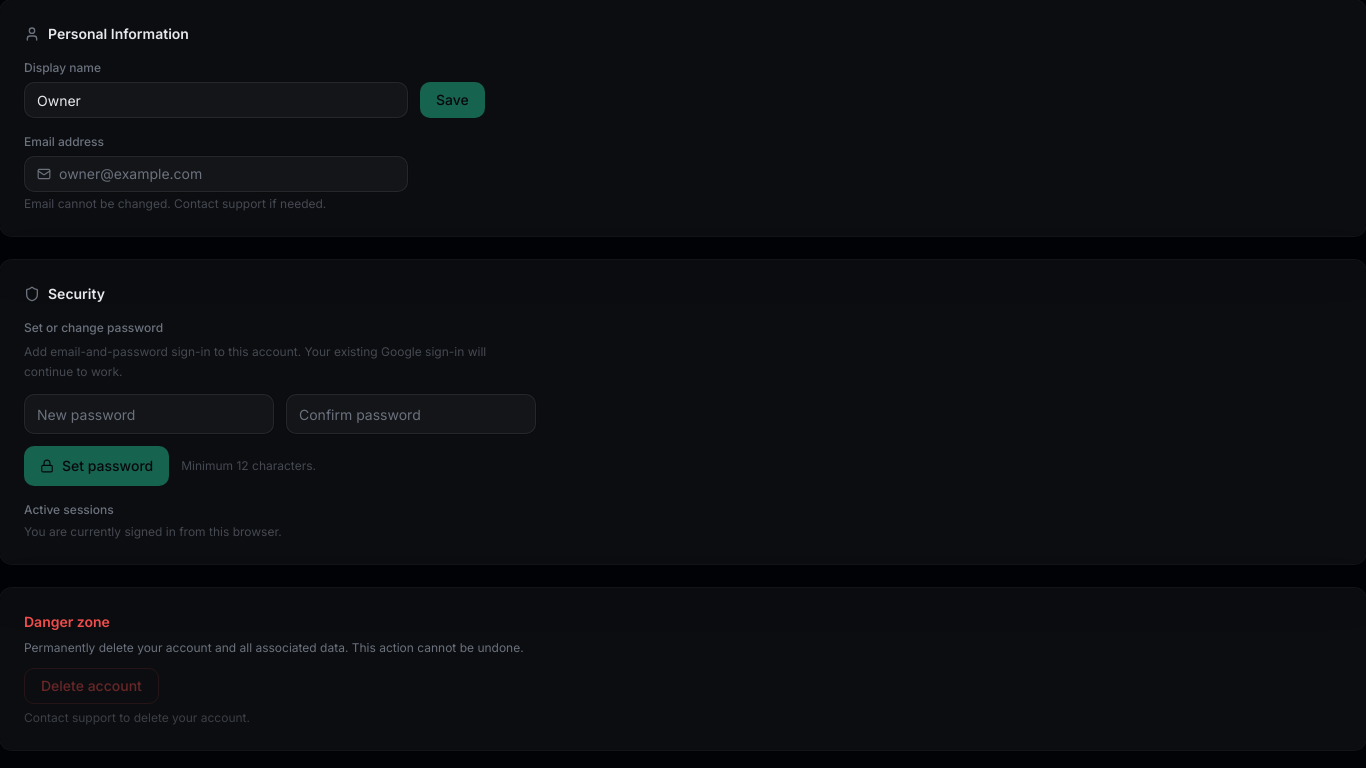
ProfileTab password sign-in › sets a password on the authenticated Supabase user
Type "strong-password-2026" into the password field labelled "New password". click: (149, 414)
box: [24, 394, 274, 434]
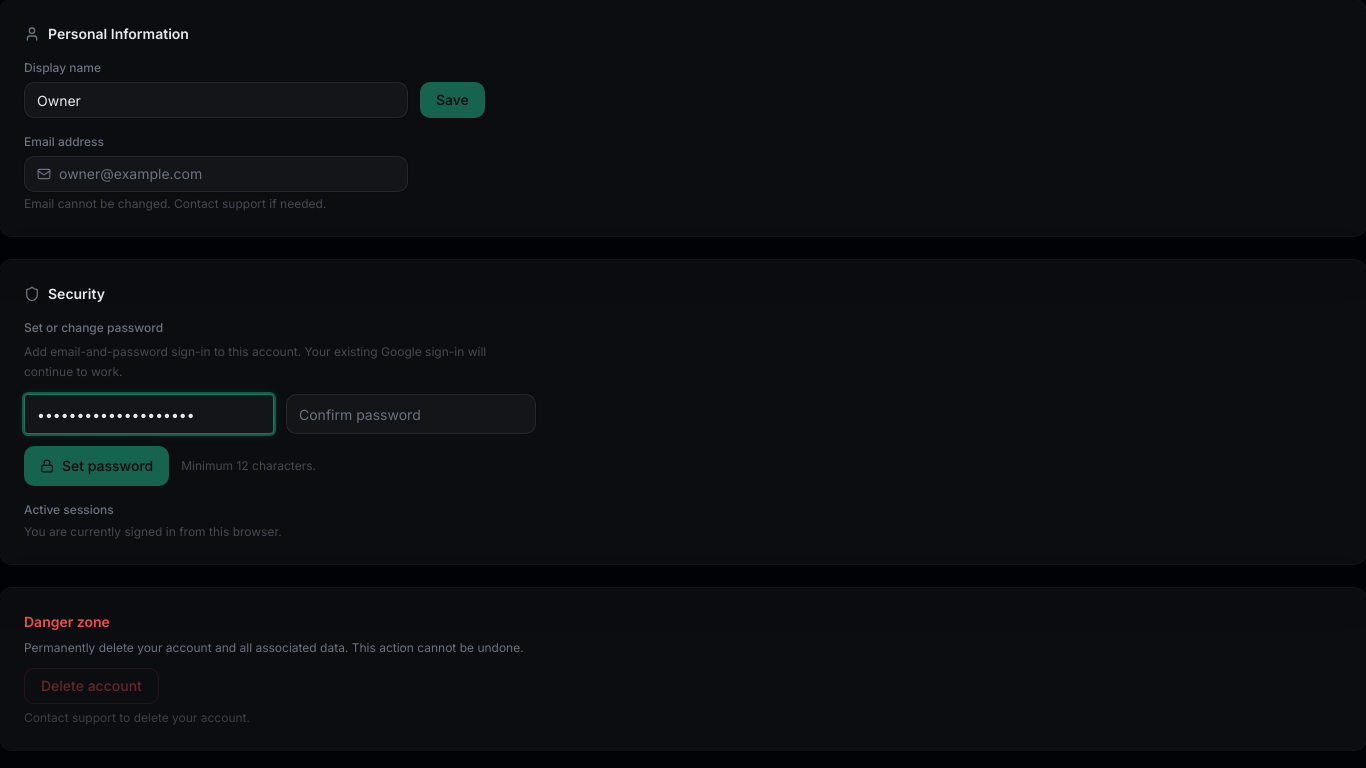
Type "strong-password-2026" into the password field labelled "Confirm password". click: (411, 414)
box: [286, 394, 536, 434]
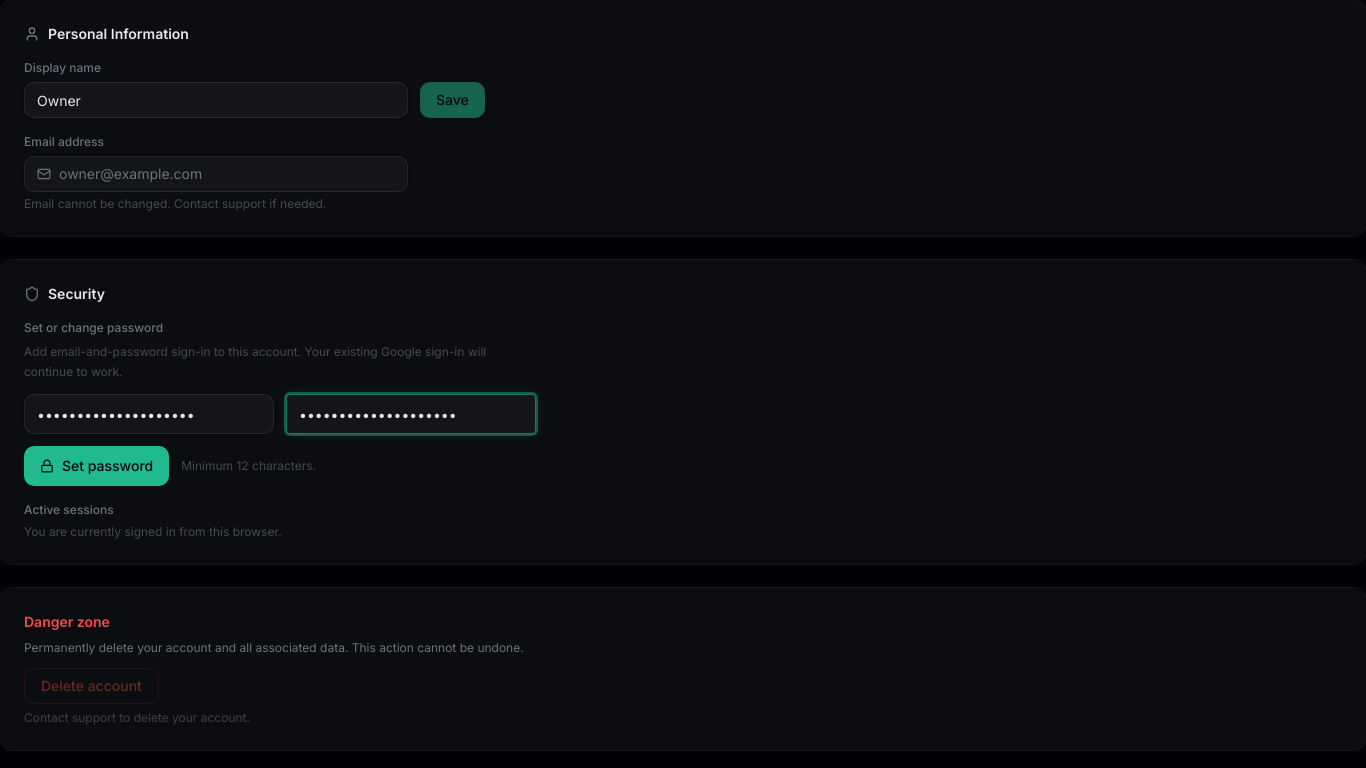
Click the button "Set password". click: (97, 466)
box: [24, 446, 169, 486]
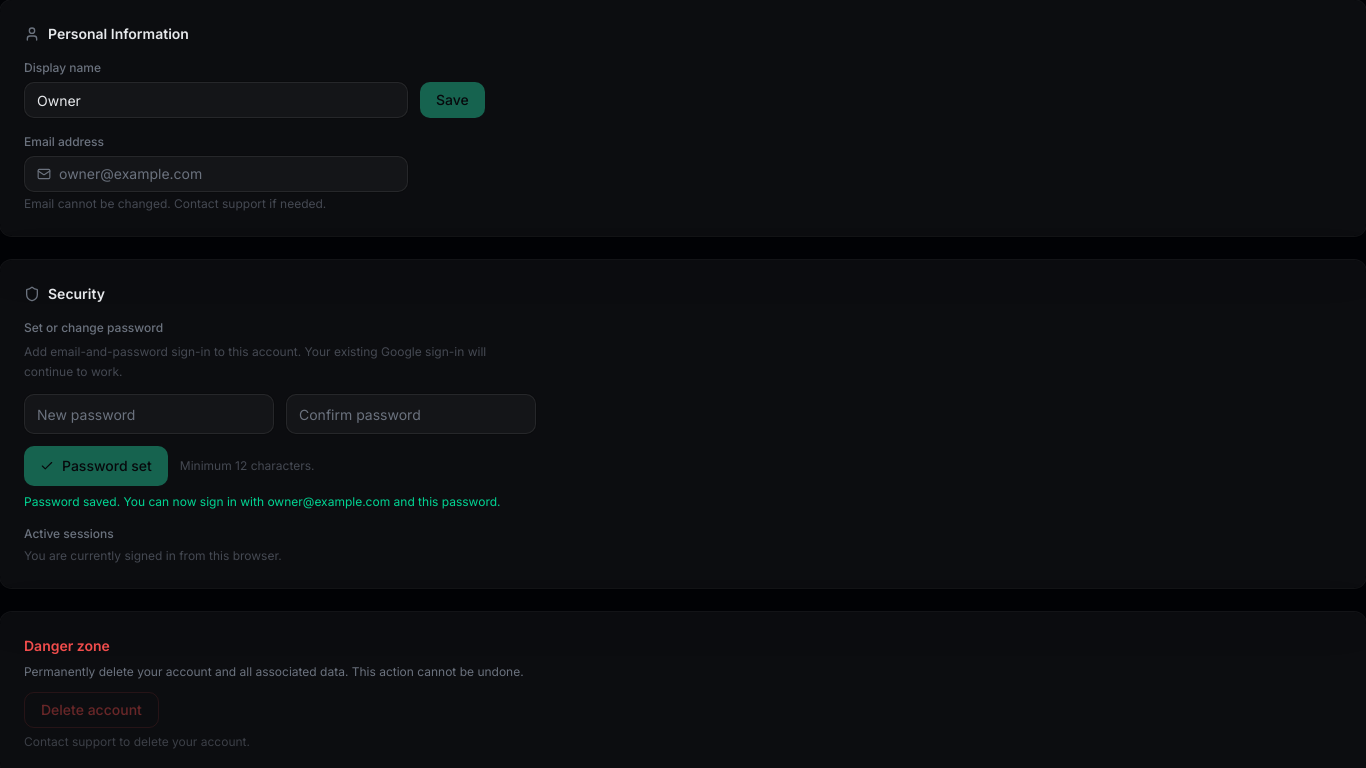
Expected: the text "Password saved. You can now sign in with owner@example.com" is shown, [24, 494, 500, 509]
